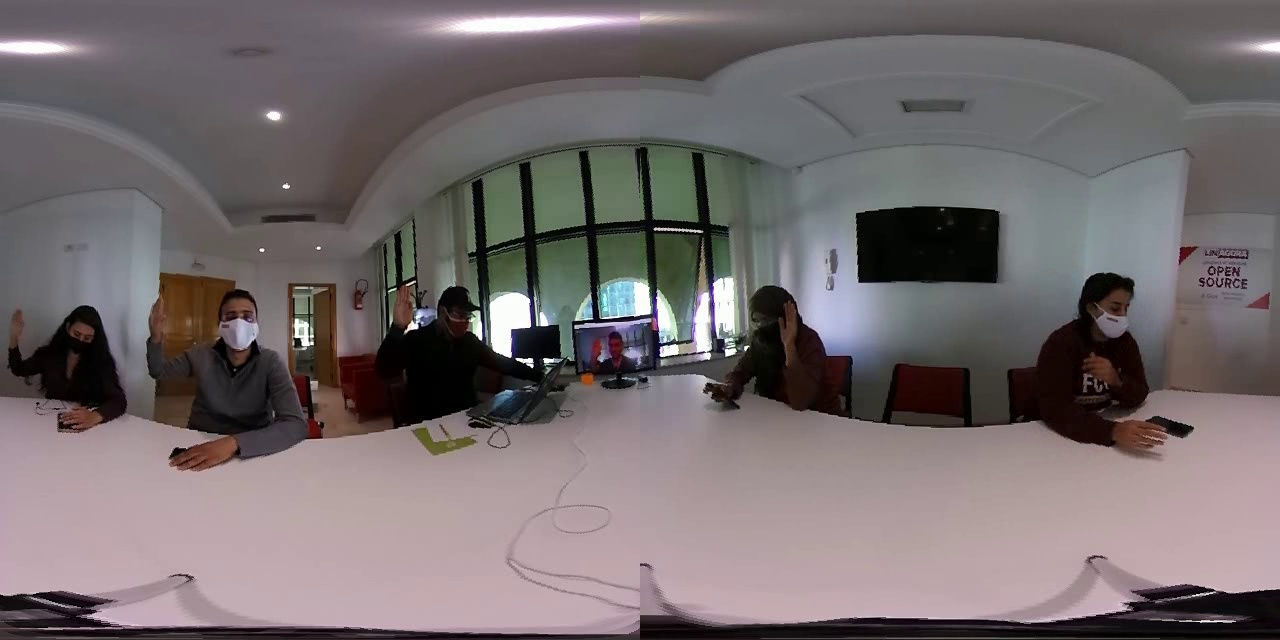person: (133, 274, 318, 467), (1024, 254, 1167, 454), (702, 271, 837, 421), (375, 265, 500, 421), (1, 294, 133, 430), (566, 314, 666, 379)
voting: (141, 285, 182, 392), (773, 295, 813, 401), (383, 270, 421, 376), (2, 300, 35, 374), (586, 328, 605, 377)
